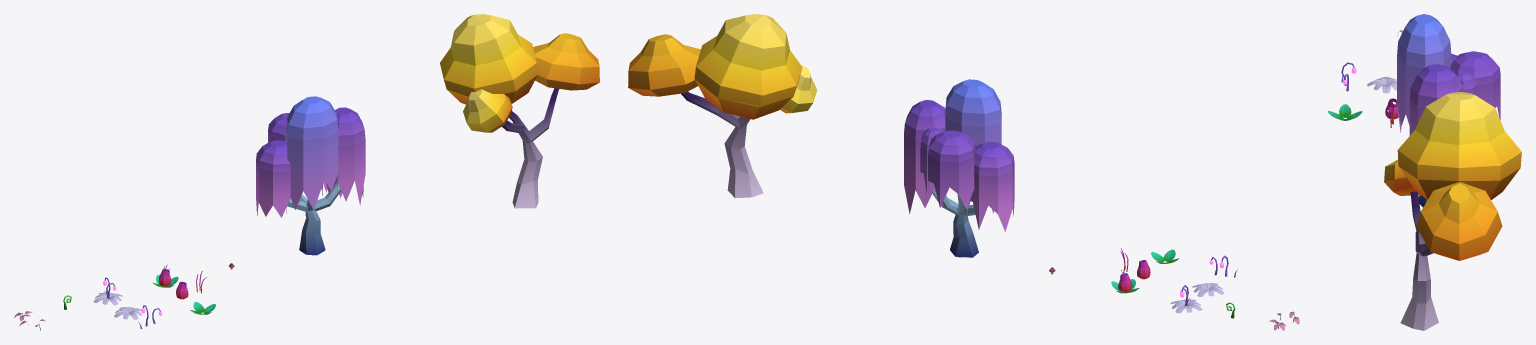
Rendered from props_CenarioJogo (1).glb.
3 views of the same model, side by side, from view 1: azimuth 30°, elevation 25°; view 2: azimuth 150°, elevation 25°; view 3: azimuth 270°, elevation 25° (orthographic). The views are drawn at different scales.
Visible parts, largest first — view 1: Arvore02, Arvore01; view 2: Arvore02, Arvore01; view 3: Arvore02, Arvore01, FolhaCopia, Folha.012, Bulbo.Copia.
Boxes of the visible parts, x1=… form: Arvore02: x1=440, y1=14, x2=599, y2=208; Arvore01: x1=256, y1=96, x2=365, y2=255; Arvore02: x1=628, y1=14, x2=817, y2=198; Arvore01: x1=904, y1=79, x2=1014, y2=257; Arvore02: x1=1384, y1=92, x2=1521, y2=330; Arvore01: x1=1397, y1=14, x2=1500, y2=207; FolhaCopia: x1=1367, y1=77, x2=1396, y2=93; Folha.012: x1=1328, y1=104, x2=1362, y2=120; Bulbo.Copia: x1=1385, y1=98, x2=1398, y2=119.
Bounding box in the file's own units: 33.85 × 9.74 × 8.04.
32 materials, 27 textured.
